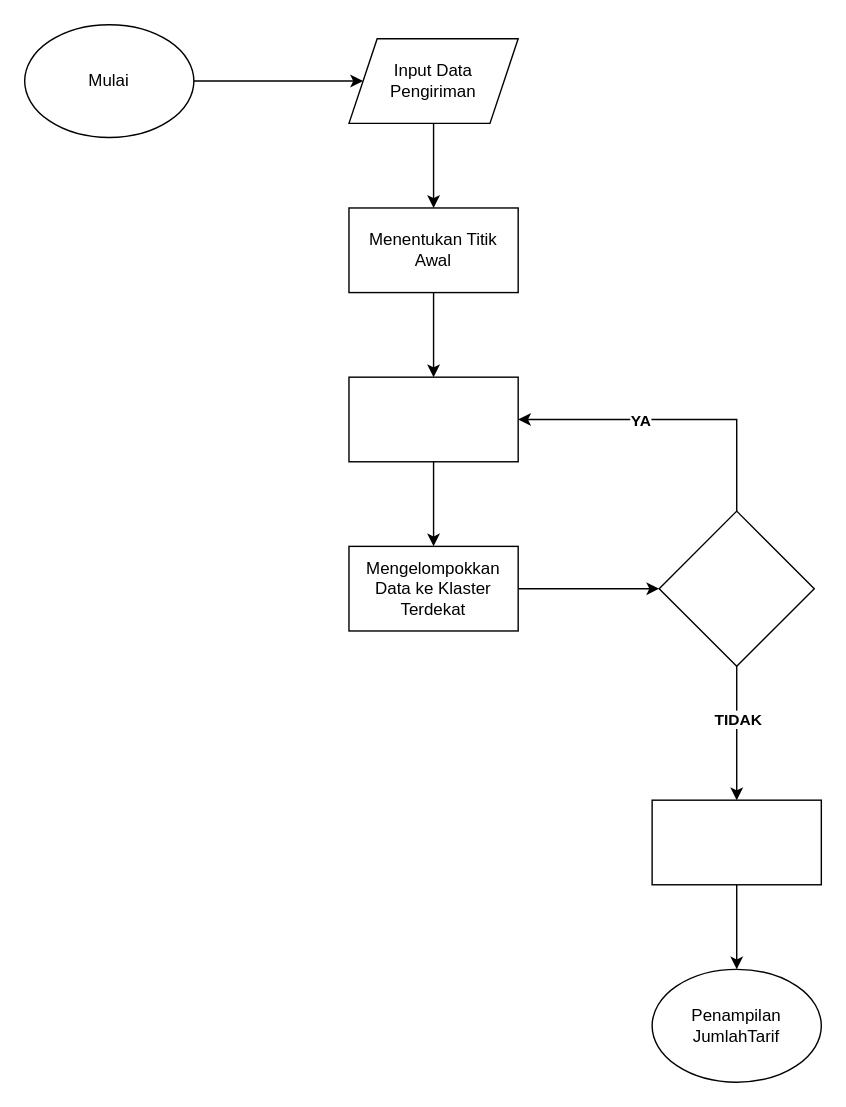
Image size: 846x1107. Some labels were removed from this diagram. Each missing label, with the centre of its shape:
Cek Konvergensi: pixel 736 588
Hitung Jarak Setiap Data: pixel 433 419
Penghitungan Tarif: pixel 736 842
